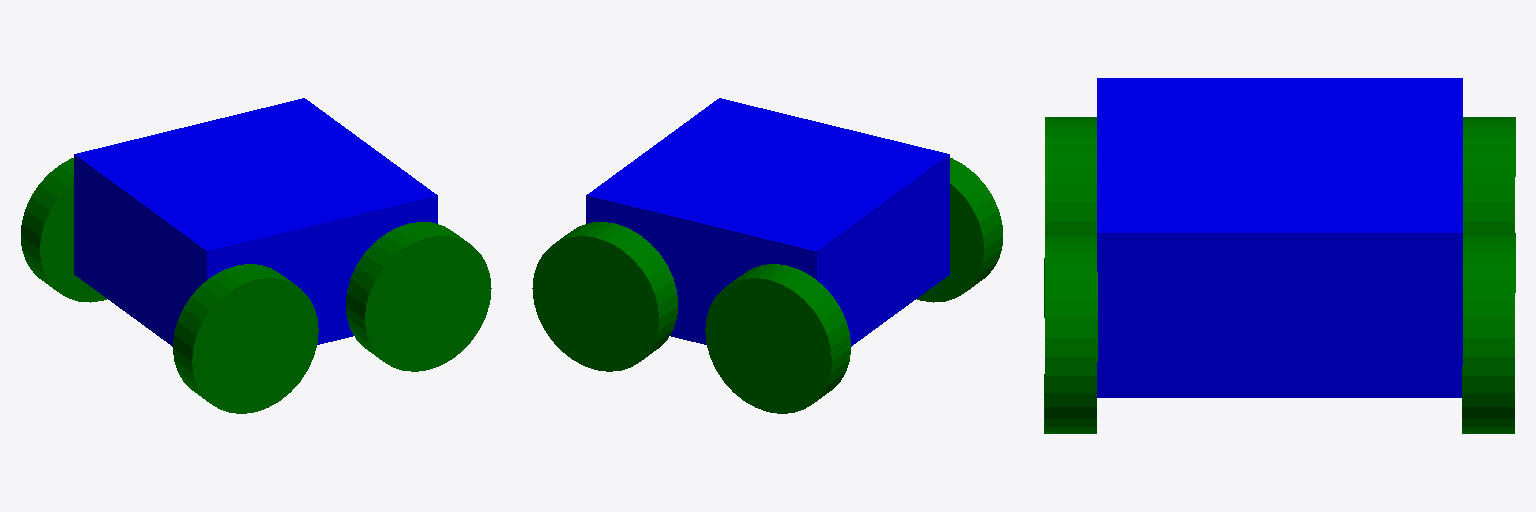
URDF robot description (gary):
<?xml version="1.0"?>
<robot name="gary">
  <material name="green">
    <color rgba="0 0.5 0 1"/>
  </material>
  <material name="blue">
    <color rgba="0 0 1.0 1"/>
  </material>
  <material name="red">
    <color rgba="1.0 0 0 1"/>
  </material>

<!--  links-->
  <link name="base_footprint" />

  <link name="base_link">
    <visual>
      <geometry>
        <box size="0.4 0.4 0.2"/>
      </geometry>
      <origin xyz="0 0 0.1" rpy="0 0 0"/>
      <material name="blue" />
    </visual>
  </link>

  <link name="right_front_wheel">
    <visual>
      <geometry>
        <cylinder radius="0.11" length="0.058"/>
      </geometry>
      <origin xyz="0 0 0" rpy="1.57 0 0"/>
      <material name="green" />
    </visual>
  </link>

  <link name="right_rear_wheel">
    <visual>
      <geometry>
        <cylinder radius="0.11" length="0.058"/>
      </geometry>
      <origin xyz="0 0 0" rpy="1.57 0 0"/>
      <material name="green" />
    </visual>
  </link>


  <link name="left_front_wheel">
    <visual>
      <geometry>
         <cylinder radius="0.11" length="0.058"/>
      </geometry>
      <origin xyz="0 0 0" rpy="1.57 0 0"/>
      <material name="green" />
    </visual>
  </link>


  <link name="left_rear_wheel">
    <visual>
      <geometry>
        <cylinder radius="0.11" length="0.058"/>
      </geometry>
      <origin xyz="0 0 0" rpy="1.57 0 0"/>
      <material name="green" />
    </visual>
  </link>

  <!--  joints-->

  <joint name="base_joint" type="fixed">
    <parent link="base_footprint" />
    <child link="base_link" />
    <origin xyz="0 0 0.055" rpy="0 0 0" />
  </joint>

  <joint name="base_rf_wheel_joint" type="continuous">
    <parent link="base_link" />
    <child link="right_front_wheel" />
    <origin xyz="0.15 -0.229 0.055" rpy="0.0 0.0 0.0" />
    <axis xyz="0 1 0"/>
  </joint>

  <joint name="base_rr_wheel_joint" type="continuous">
    <parent link="base_link" />
    <child link="right_rear_wheel" />
    <origin xyz="-0.15 -0.229 0.055" rpy="0.0 0.0 0.0" />
    <axis xyz="0 1 0"/>
  </joint>

  <joint name="base_lf_wheel_joint" type="continuous">
    <parent link="base_link" />
    <child link="left_front_wheel" />
    <origin xyz="0.15 0.229 0.055" rpy="0.0 0.0 0.0" />
    <axis xyz="0 1 0"/>
  </joint>

  <joint name="base_lr_wheel_joint" type="continuous">
    <parent link="base_link" />
    <child link="left_rear_wheel" />
    <origin xyz="-0.15 0.229 0.055" rpy="0.0 0.0 0.0" />
    <axis xyz="0 1 0"/>
  </joint>

</robot>

--- Facts derived from the render (not from the file) ---
The picture shows the robot from 3 angles, left to right: view 1: azimuth 30°, elevation 25°; view 2: azimuth 150°, elevation 25°; view 3: azimuth 270°, elevation 25°; orthographic projection.
Robot: gary — 6 links, 5 joints (4 continuous, 1 fixed); root link base_footprint; default pose: every joint at zero.
Visible links, largest first — view 1: base_link, right_rear_wheel, right_front_wheel, left_rear_wheel; view 2: base_link, left_rear_wheel, left_front_wheel, right_rear_wheel; view 3: base_link, right_front_wheel, left_front_wheel, right_rear_wheel, left_rear_wheel.
Link boxes in pixels (left/top/right/bottom): base_link: left=74, top=98, right=437, bottom=346; right_rear_wheel: left=173, top=264, right=318, bottom=413; right_front_wheel: left=346, top=222, right=491, bottom=371; left_rear_wheel: left=21, top=158, right=106, bottom=302; base_link: left=586, top=98, right=949, bottom=346; left_rear_wheel: left=705, top=264, right=850, bottom=413; left_front_wheel: left=532, top=222, right=677, bottom=371; right_rear_wheel: left=917, top=158, right=1002, bottom=302; base_link: left=1097, top=78, right=1462, bottom=397; right_front_wheel: left=1044, top=233, right=1097, bottom=433; left_front_wheel: left=1462, top=233, right=1515, bottom=433; right_rear_wheel: left=1044, top=117, right=1096, bottom=317; left_rear_wheel: left=1463, top=117, right=1515, bottom=232.
Size in the robot's own frame: 0.52 by 0.5162 by 0.255 metres.
Geometry: primitives only (box / cylinder / sphere), no mesh files.
